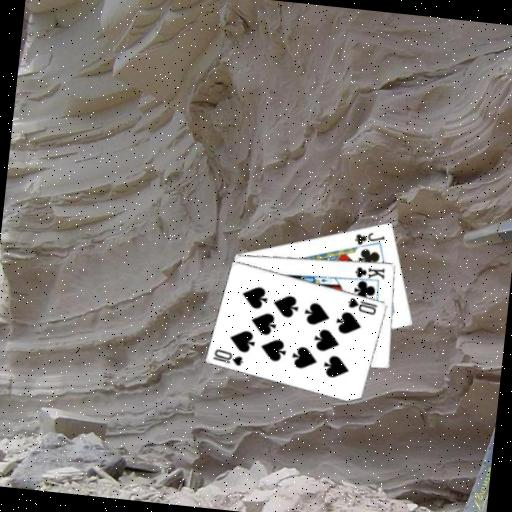10S: (210, 345, 247, 368), (344, 295, 380, 317)
JC: (352, 227, 388, 249)
KC: (349, 262, 387, 285)
